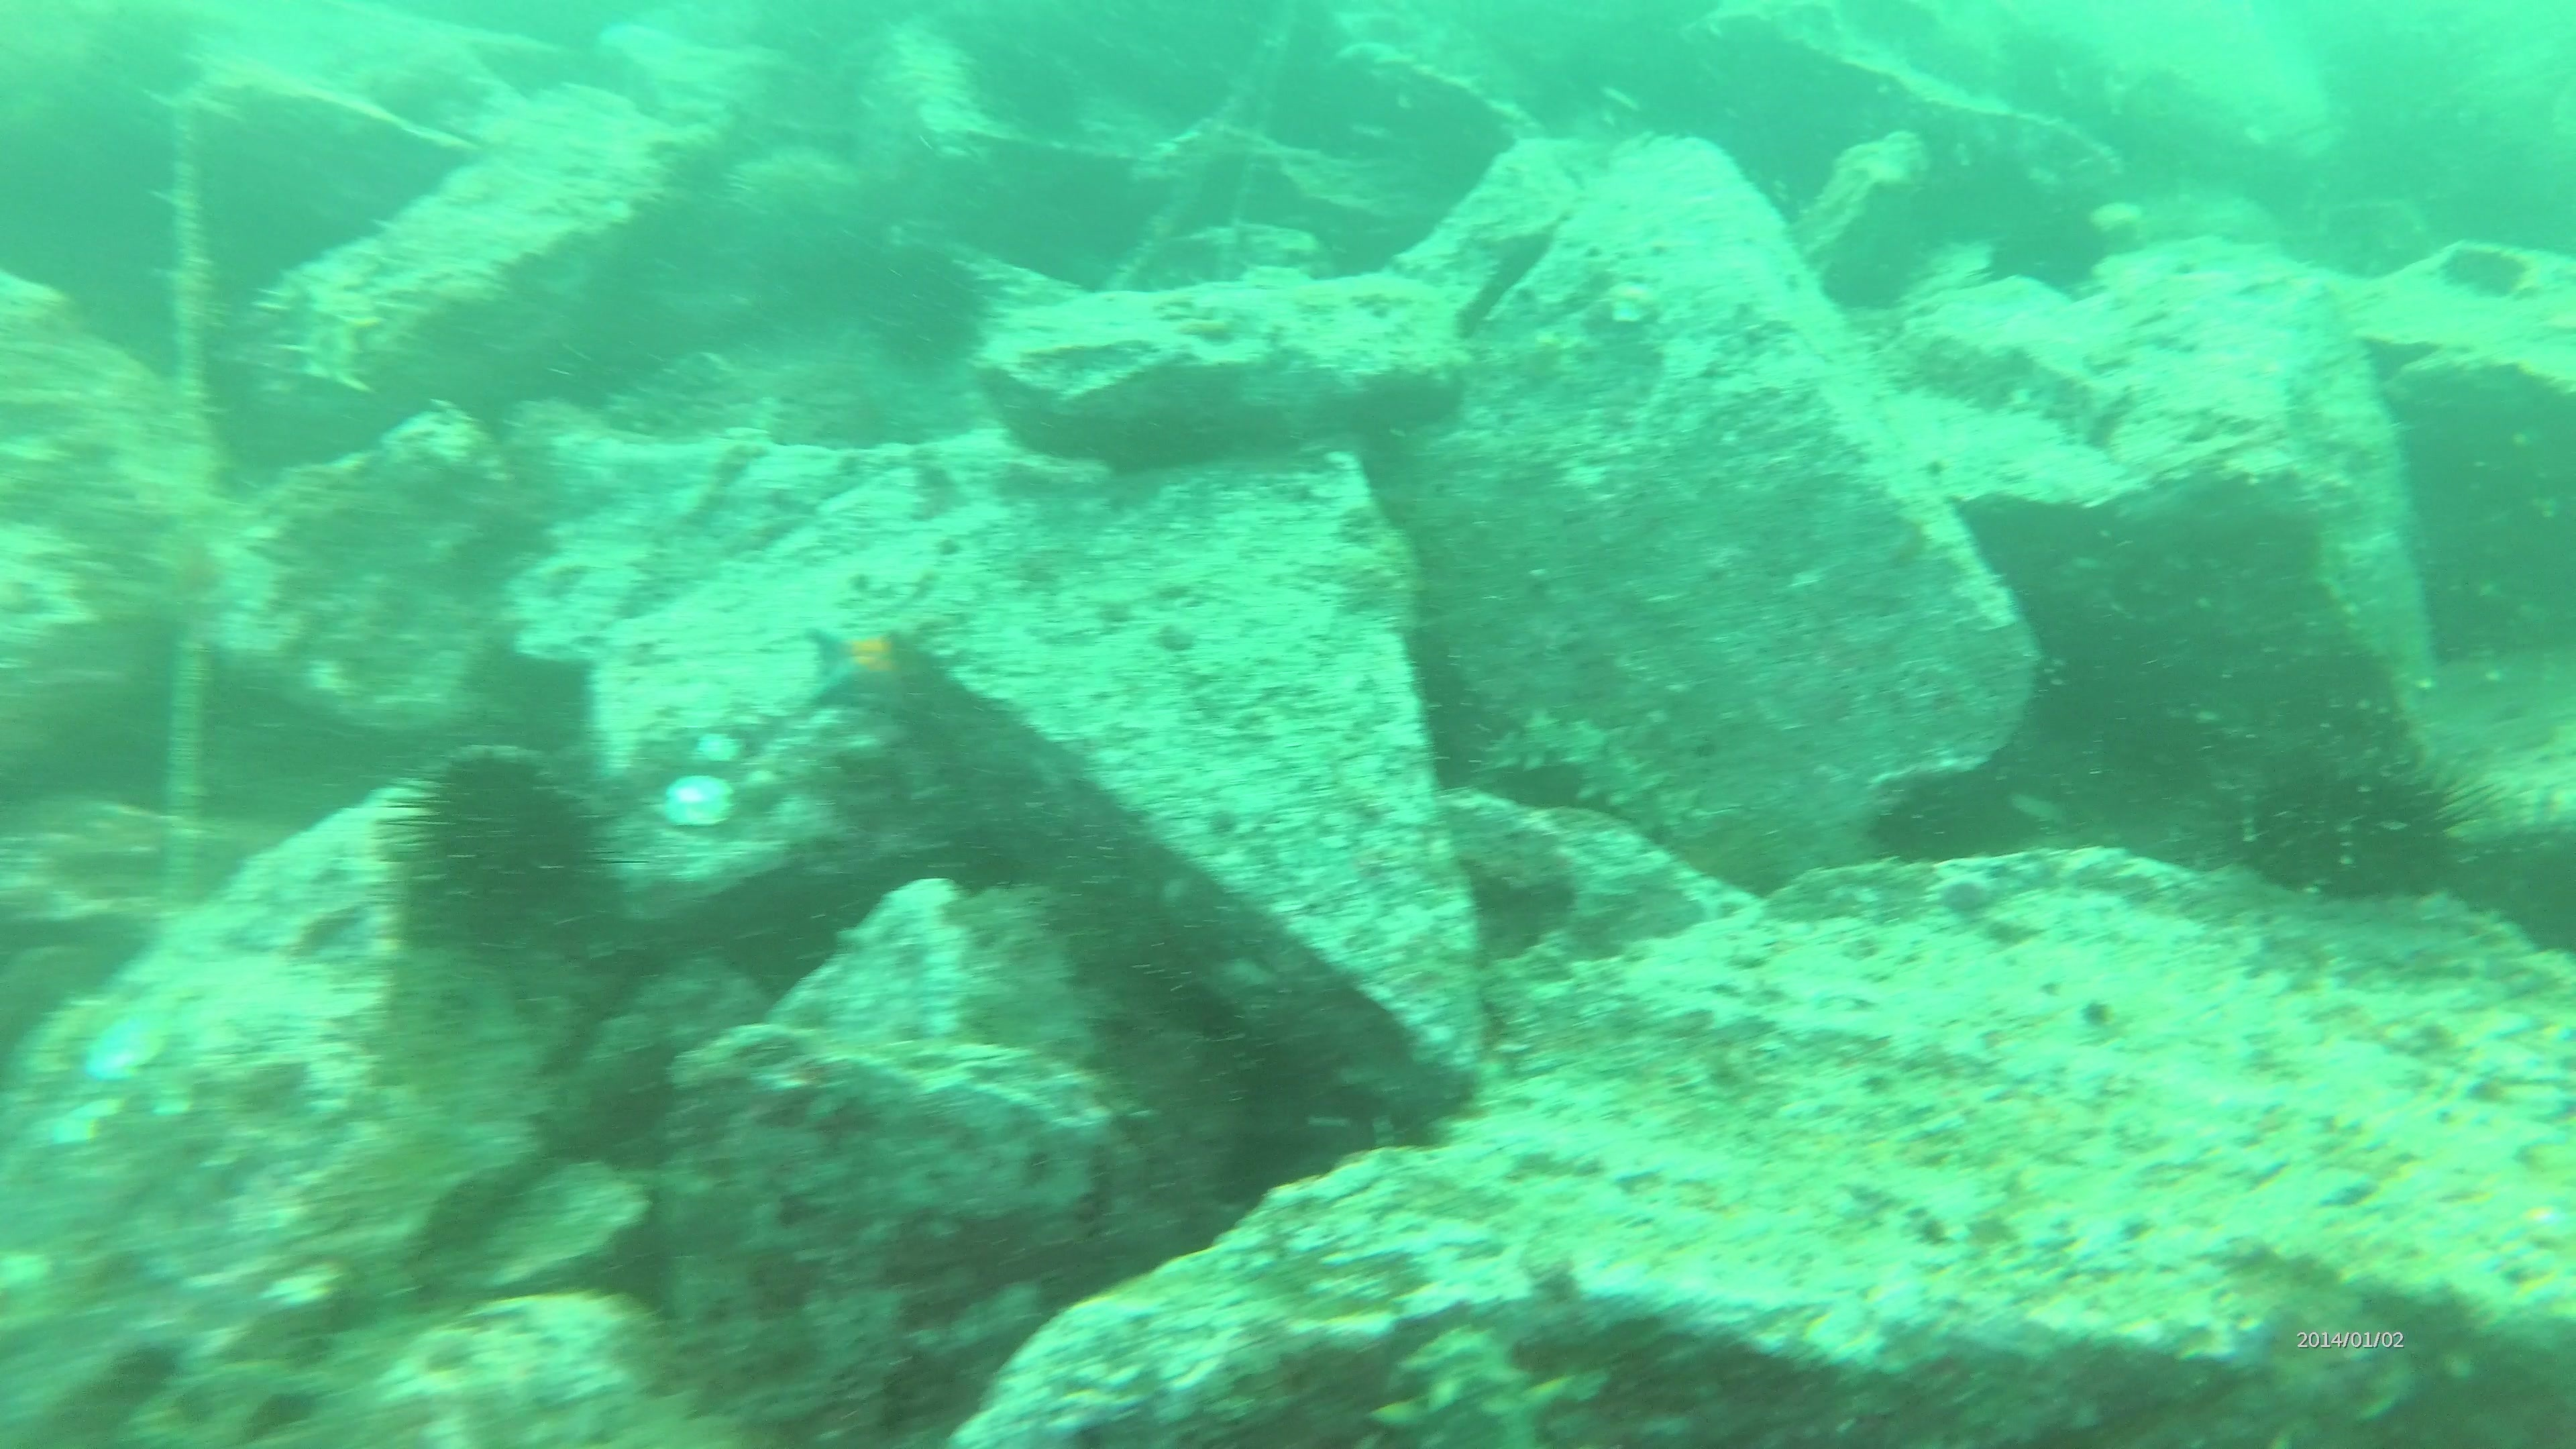echinus: (2219, 729, 2482, 911), (386, 740, 616, 943), (856, 234, 1005, 382)
holothurian: (1884, 306, 2141, 453), (1465, 702, 1702, 846), (248, 248, 387, 405)
starfish: (798, 609, 939, 724)
